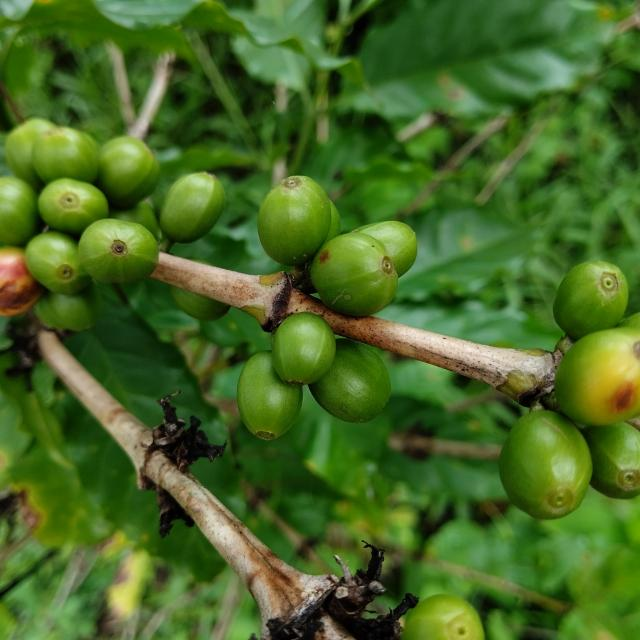green: (500, 410, 594, 520), (310, 232, 398, 316), (309, 339, 391, 423), (258, 176, 331, 266), (554, 261, 630, 340), (237, 351, 303, 441), (78, 219, 158, 283), (272, 312, 336, 386), (159, 172, 225, 243), (97, 136, 159, 208), (584, 422, 640, 500), (24, 231, 91, 295), (37, 178, 108, 234), (31, 126, 98, 183), (4, 118, 55, 190), (402, 596, 485, 640), (353, 221, 418, 277), (0, 176, 39, 246), (170, 286, 230, 321), (324, 200, 341, 242)
